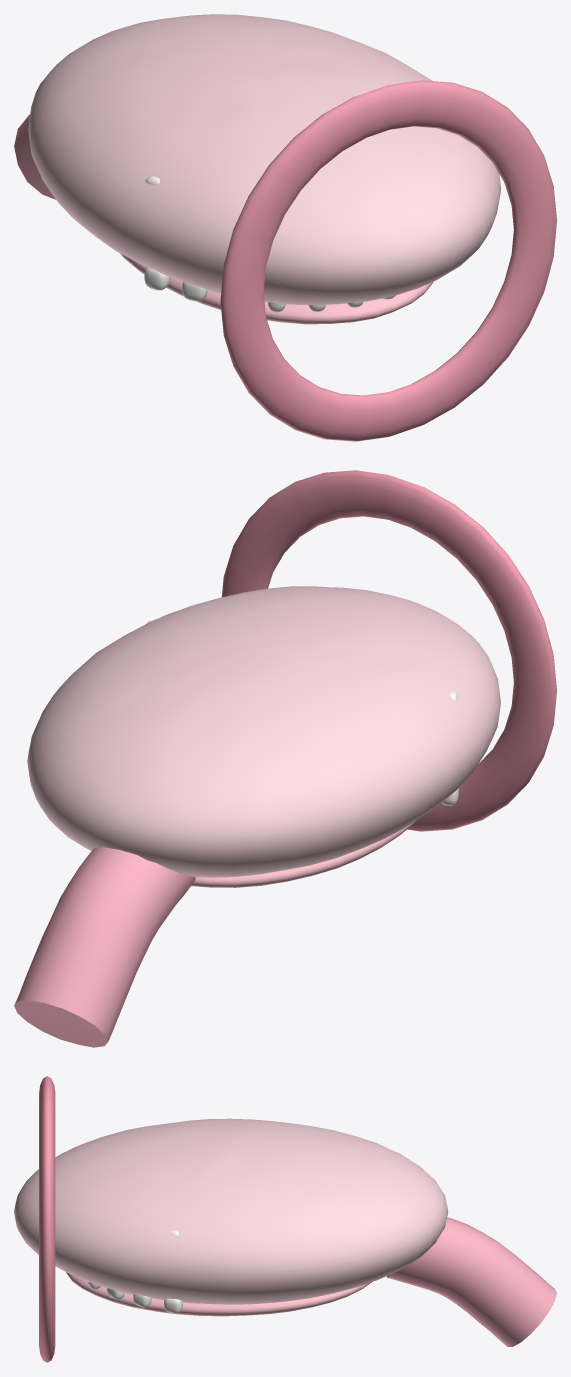
File: stage_mouth.glb
The picture shows the model from 3 angles, top to bottom: view 1: azimuth 30°, elevation 25°; view 2: azimuth 150°, elevation 25°; view 3: azimuth 270°, elevation 25°; orthographic projection. The views are drawn at different scales.
Parts seen in each view (by area): view 1: MouthCavity, Lips, Tongue, Teeth, Throat; view 2: MouthCavity, Lips, Throat, Tongue; view 3: MouthCavity, Throat, Lips, Tongue, Teeth.
Boxes of the visible parts, x1,y1,x2,y2 form: MouthCavity: (28, 14, 501, 305); Lips: (220, 80, 556, 441); Tongue: (120, 253, 433, 324); Teeth: (144, 176, 395, 312); Throat: (14, 114, 55, 199); MouthCavity: (27, 586, 500, 877); Lips: (221, 470, 556, 831); Throat: (14, 847, 195, 1047); Tongue: (191, 819, 417, 887); MouthCavity: (14, 1118, 448, 1304); Throat: (387, 1217, 556, 1346); Lips: (39, 1076, 55, 1362); Tongue: (66, 1272, 371, 1316); Teeth: (88, 1230, 182, 1313).
Bounding box in the file's own units: 38.04 × 34.4 × 65.05.
